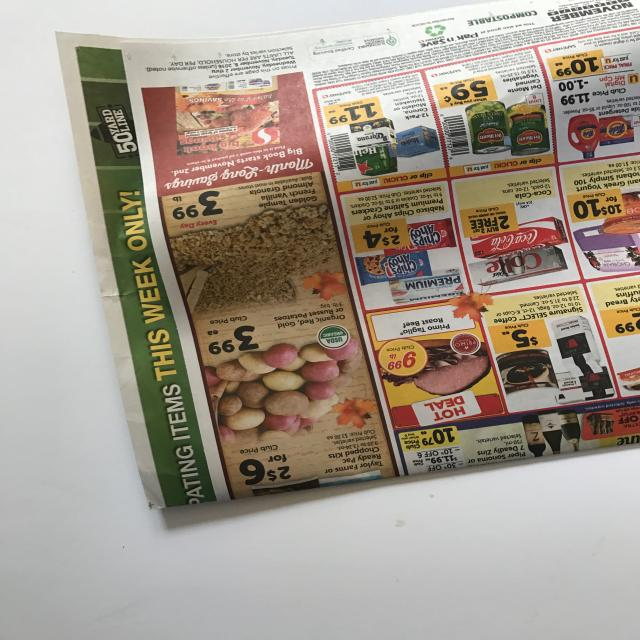Paper: (38, 4, 640, 506)
